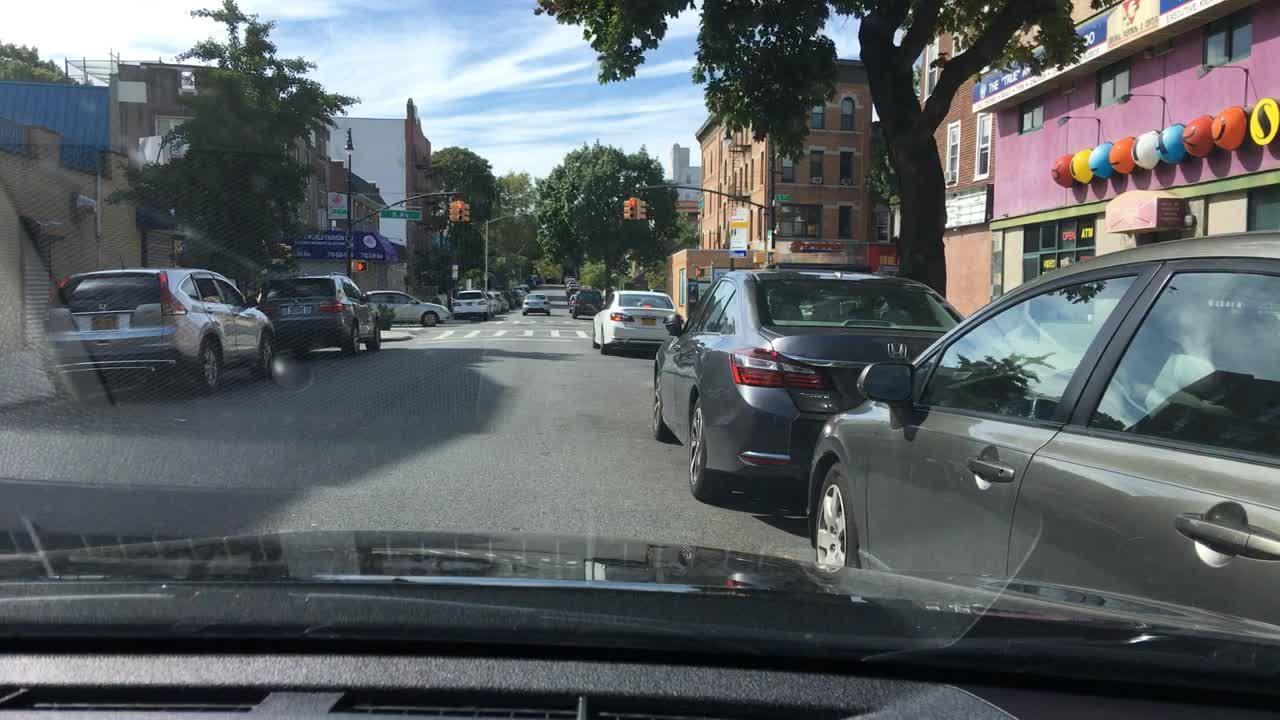Honda: (885, 341, 910, 364), (96, 299, 112, 314)
